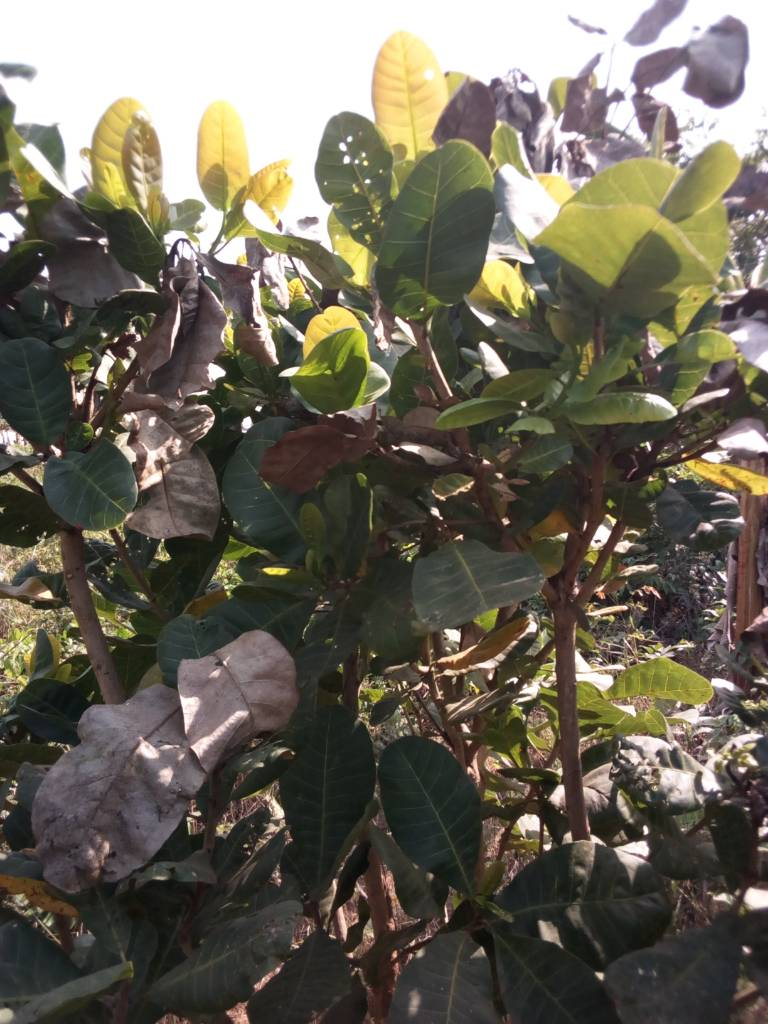Dessèchement des bourgeons: (136, 235, 253, 376)
